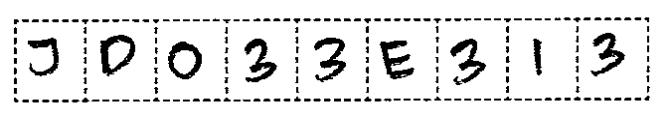0: (162, 35, 206, 84)
1: (520, 32, 562, 83)
3: (308, 30, 352, 87), (235, 34, 281, 88), (444, 32, 488, 88), (587, 28, 630, 84)
D: (95, 32, 140, 79)
E: (376, 37, 421, 85)
J: (21, 33, 68, 80)
